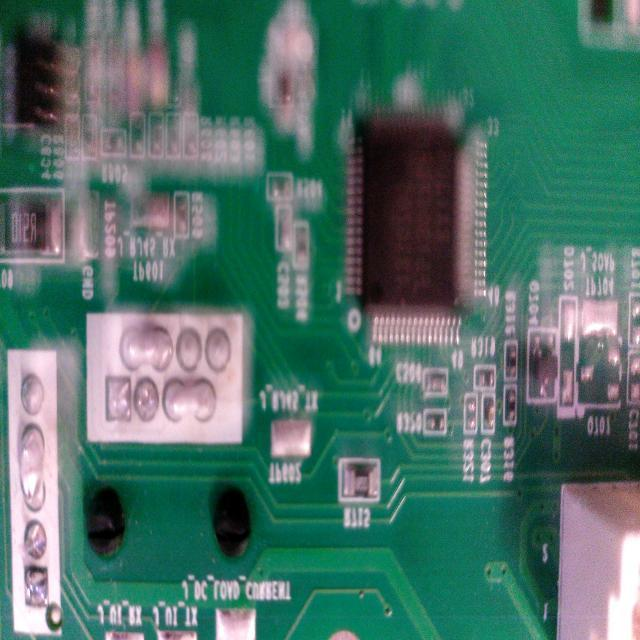Soldering shorted: (159, 380, 219, 430), (16, 422, 48, 508), (118, 322, 173, 371)
